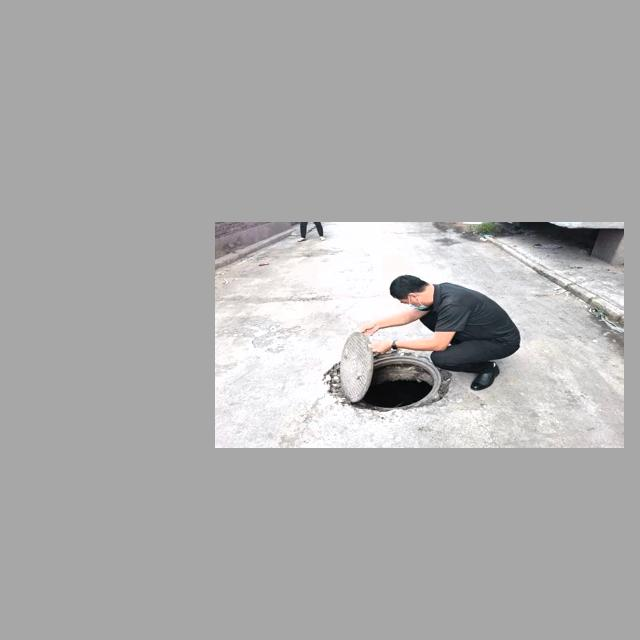circle: (312, 338, 475, 419)
